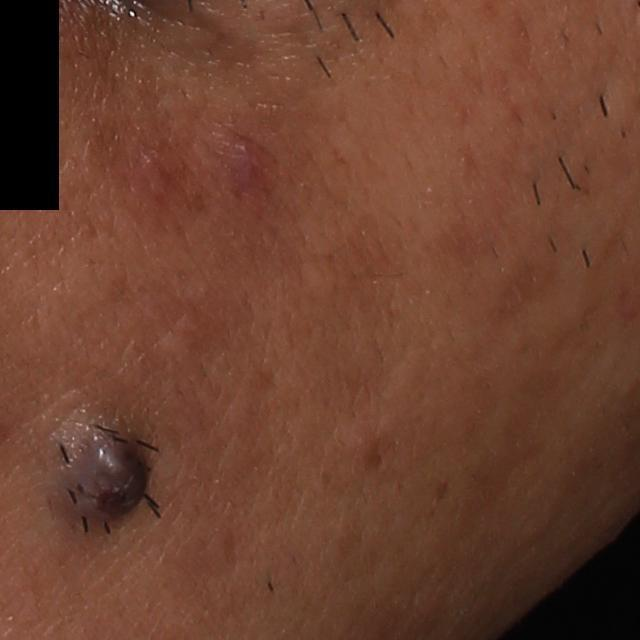nevus: (37, 400, 156, 552)
